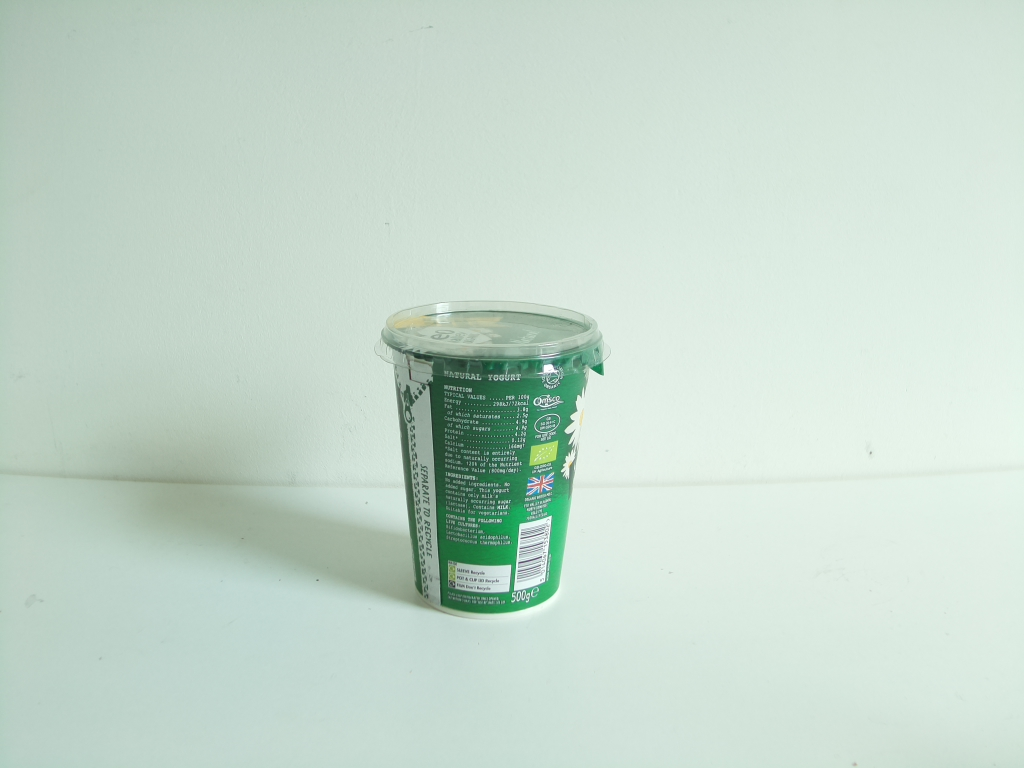yogurt: (370, 291, 612, 626)
